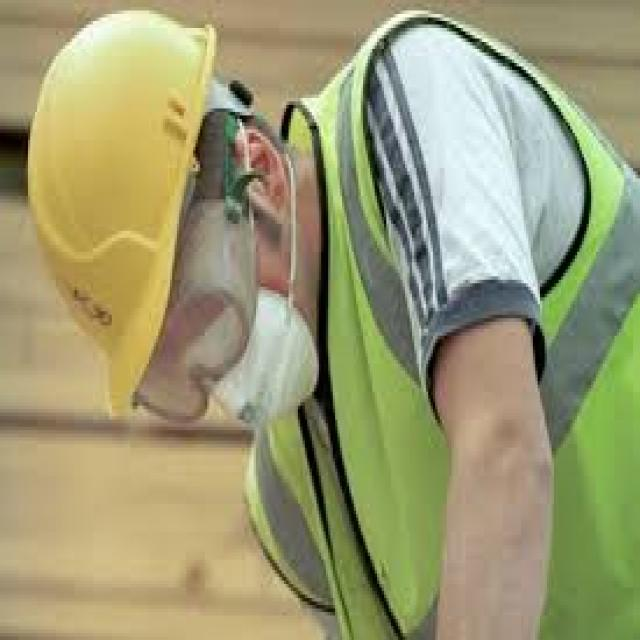Reflective-Jacket: (223, 0, 640, 640)
Safety-Helmet: (12, 0, 251, 430)
